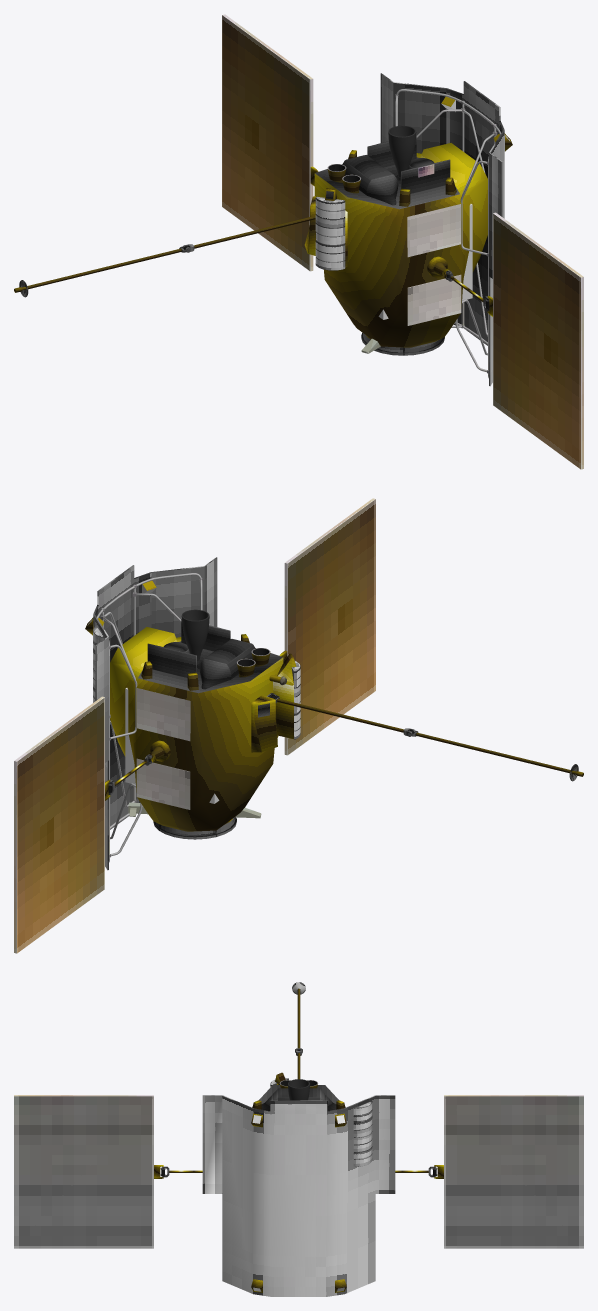
The model's file is messenger.glb.
The picture shows the model from 3 angles, top to bottom: view 1: azimuth 30°, elevation 25°; view 2: azimuth 150°, elevation 25°; view 3: azimuth 270°, elevation 25°; orthographic projection. The views are drawn at different scales.
Parts seen in each view (by area): view 1: Tex_01, Foil_gold, AO_heatshield, Foil_silver, Tex_02, AO_other, Tex_darkgrey, AO_other2, _root; view 2: Tex_01, Foil_gold, AO_heatshield, Foil_silver, Tex_02, Tex_darkgrey, AO_other2, AO_other, _root; view 3: Tex_01, AO_heatshield, Foil_gold, AO_other, Foil_silver, Tex_darkgrey.
Boxes of the visible parts, x1,y1,x2,y2 form: Tex_01: (222,14,583,469); Foil_gold: (14,96,512,347); AO_heatshield: (380,73,504,386); Foil_silver: (315,135,459,209); Tex_02: (327,89,500,378); AO_other: (19,197,345,297); Tex_darkgrey: (19,125,416,296); AO_other2: (179,175,489,355); _root: (378,204,472,319); Tex_01: (14,498,375,953); Foil_gold: (85,580,583,831); AO_heatshield: (93,557,217,870); Foil_silver: (138,619,282,717); Tex_02: (97,573,286,862); Tex_darkgrey: (181,609,578,780); AO_other2: (108,659,418,839); AO_other: (93,625,578,781); _root: (125,688,219,803); Tex_01: (14,1095,583,1248); AO_heatshield: (202,1095,395,1296); Foil_gold: (154,988,443,1292); AO_other: (270,982,372,1166); Foil_silver: (252,1085,345,1110); Tex_darkgrey: (288,1079,309,1100).
Bounding box in the file's own units: 5.28 × 2.64 × 6.96.
10 materials, 9 textured.
